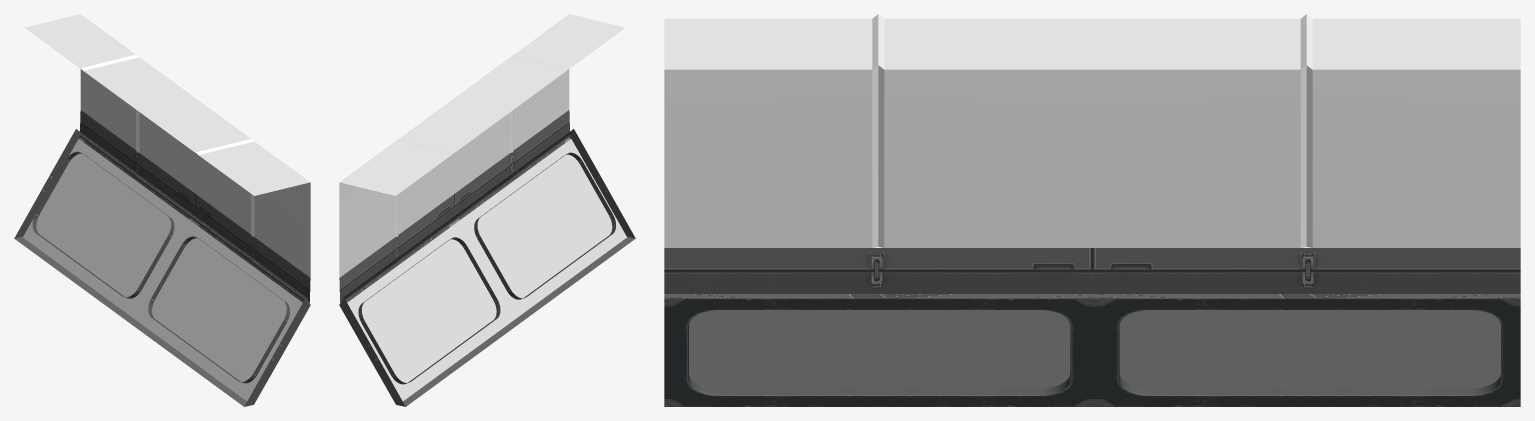
Rendered from TopWindow_Straight.gltf.
The picture shows the model from 3 angles, left to right: view 1: azimuth 30°, elevation 25°; view 2: azimuth 150°, elevation 25°; view 3: azimuth 270°, elevation 25°; orthographic projection. The views are drawn at different scales.
Parts seen in each view (by area): view 1: TopWindow_Straight; view 2: TopWindow_Straight; view 3: TopWindow_Straight.
Boxes of the visible parts, x1,y1,x2,y2 form: TopWindow_Straight: (14,14,310,406); TopWindow_Straight: (339,14,635,406); TopWindow_Straight: (664,14,1520,406).
Size of the model in its own units: 0.6693 by 2.02 by 4.
Materials: 4 (2 with a texture image).
